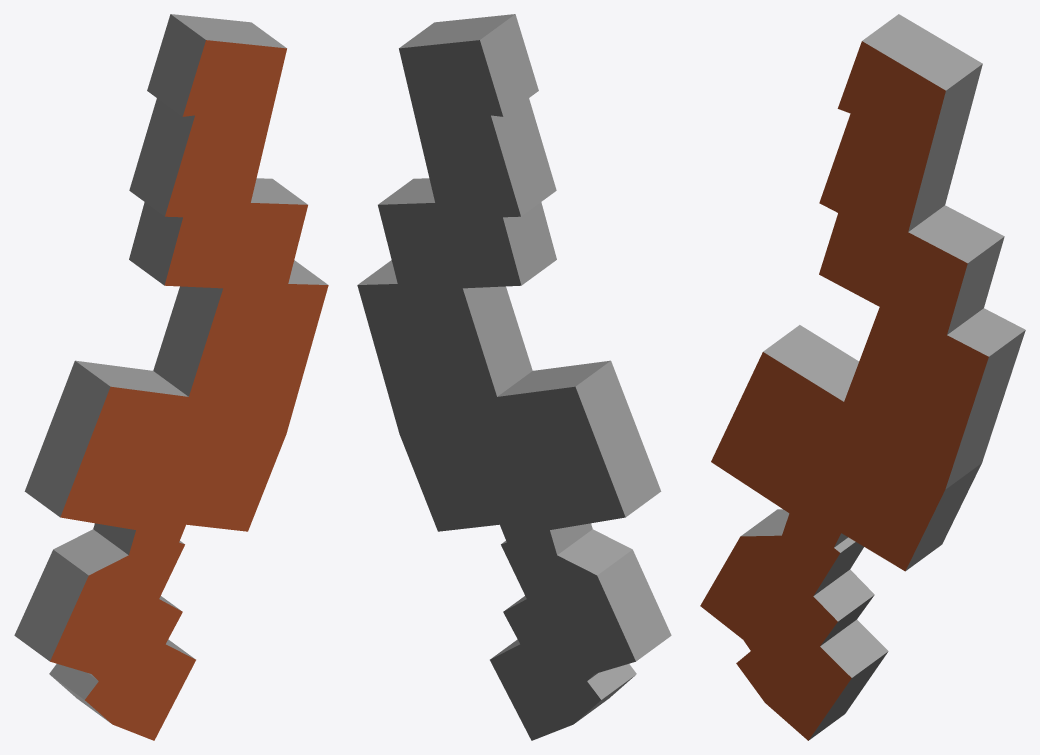
File: construction_3733_assumed_A_Casa_h6m.obj
3 views of the same model, side by side, from view 1: azimuth 30°, elevation 25°; view 2: azimuth 150°, elevation 25°; view 3: azimuth 330°, elevation 25° (orthographic). The views are drawn at different scales.
Visible parts, largest first — view 1: construction_3733_assumed_A_Casa; view 2: construction_3733_assumed_A_Casa; view 3: construction_3733_assumed_A_Casa.
Part boxes in pixels (x1,y1,x2,y2): construction_3733_assumed_A_Casa: (14,14,328,740); construction_3733_assumed_A_Casa: (357,14,671,740); construction_3733_assumed_A_Casa: (700,14,1025,740).
Size of the model in its own units: 27.11 by 63.97 by 6.
